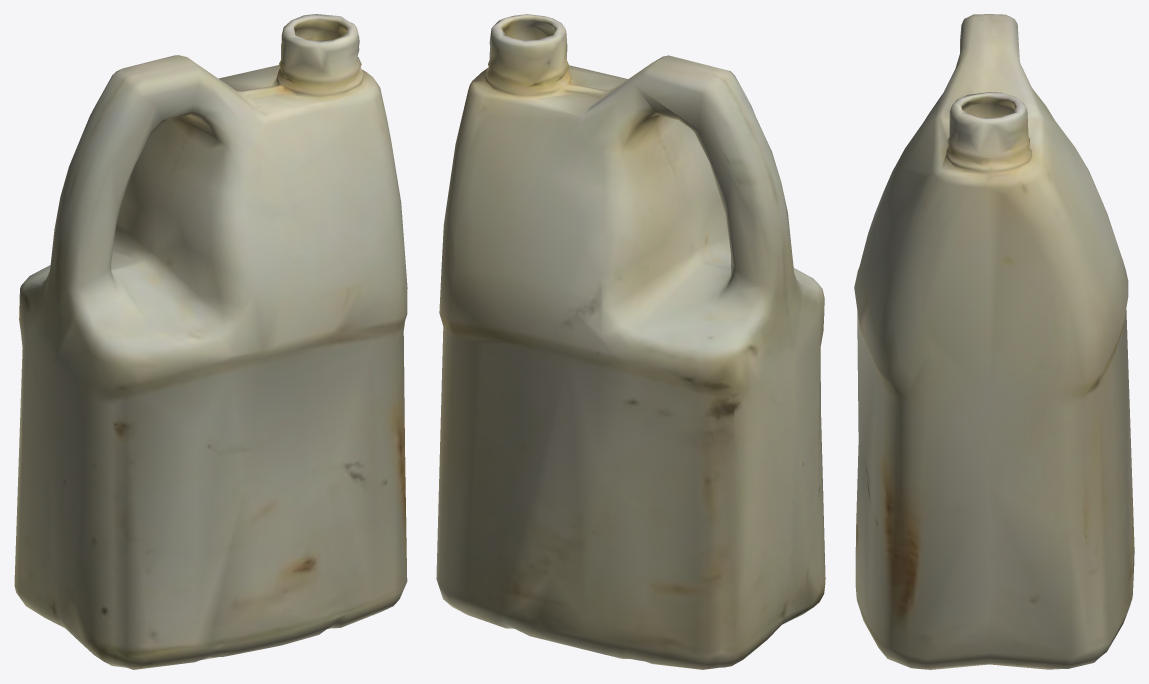
Rendered from plastic_bottle_gallon.glb.
3 views of the same model, side by side, from view 1: azimuth 30°, elevation 25°; view 2: azimuth 150°, elevation 25°; view 3: azimuth 270°, elevation 25° (orthographic).
Parts seen in each view (by area): view 1: plastic_bottle_gallon; view 2: plastic_bottle_gallon; view 3: plastic_bottle_gallon.
Boxes of the visible parts, x1=… form: plastic_bottle_gallon: x1=14, y1=14, x2=407, y2=669; plastic_bottle_gallon: x1=436, y1=14, x2=825, y2=669; plastic_bottle_gallon: x1=854, y1=14, x2=1134, y2=669.
Bounding box in the file's own units: 0.1661 × 0.2744 × 0.126.
Materials: 1 (1 with a texture image).
